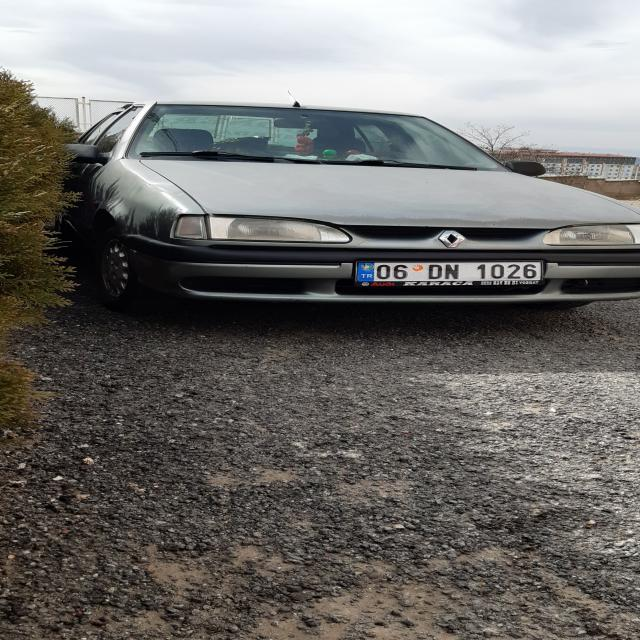plate: (357, 262, 544, 281)
